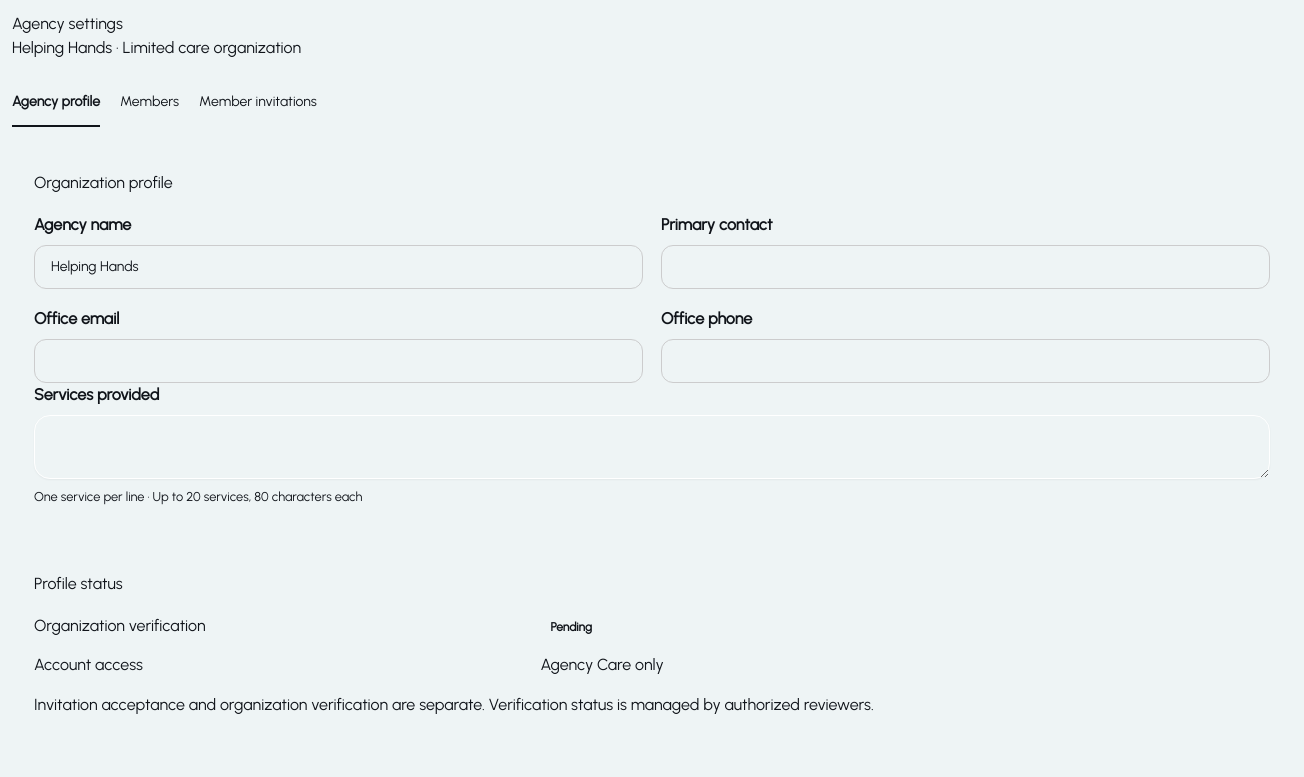
starts at the first page when switching between members and member invitations
Click the button "Members": click(150, 104) [120,82,179,127]
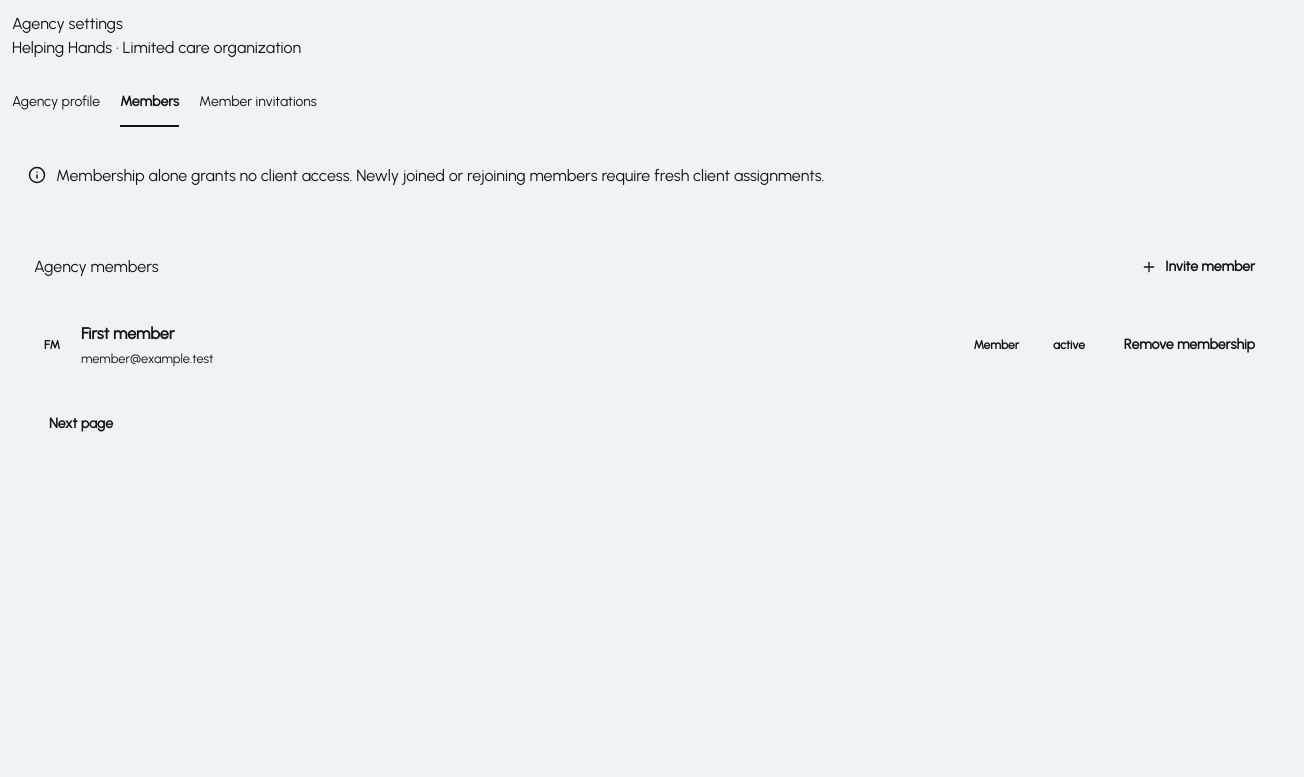
Click the button "Next page": click(81, 423) [34,402,128,444]
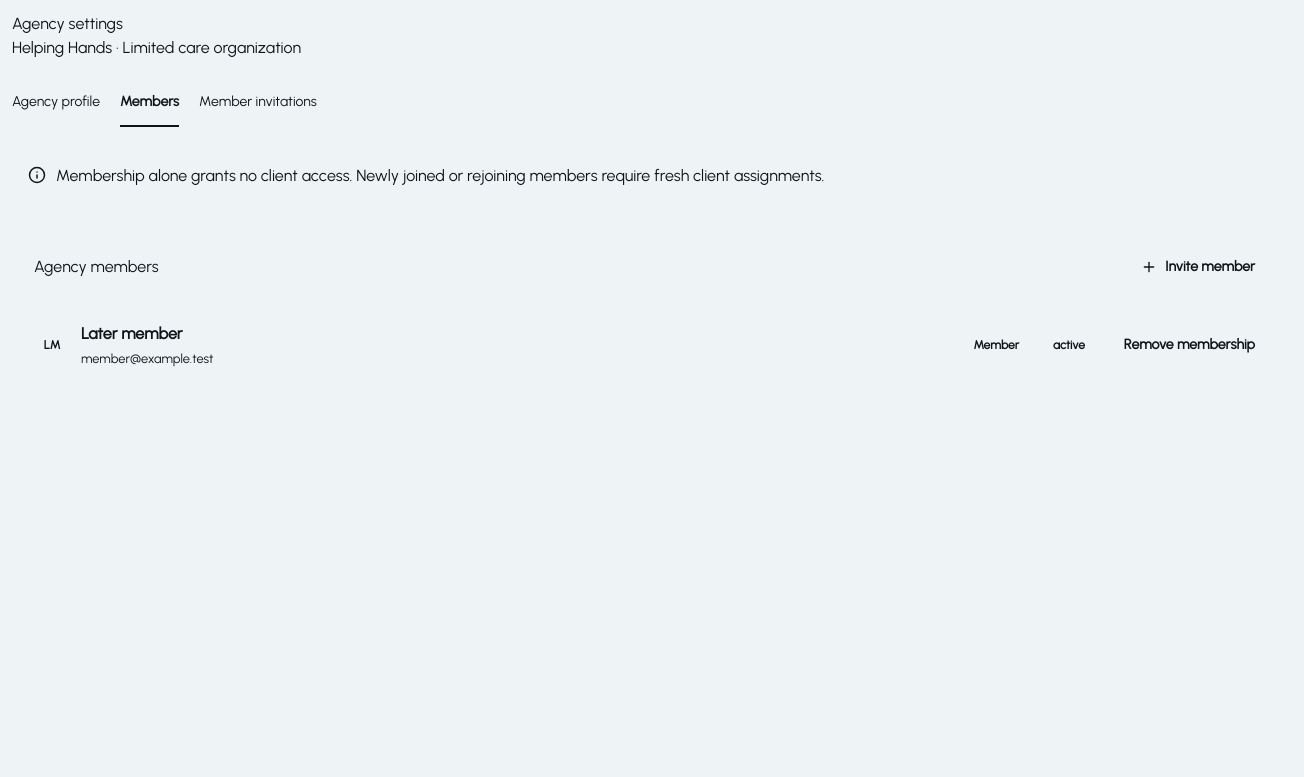
Now the text "Later member" is shown, box [81,324,182,343]
Click the button "Member invitations": click(258, 104) [199,82,317,127]
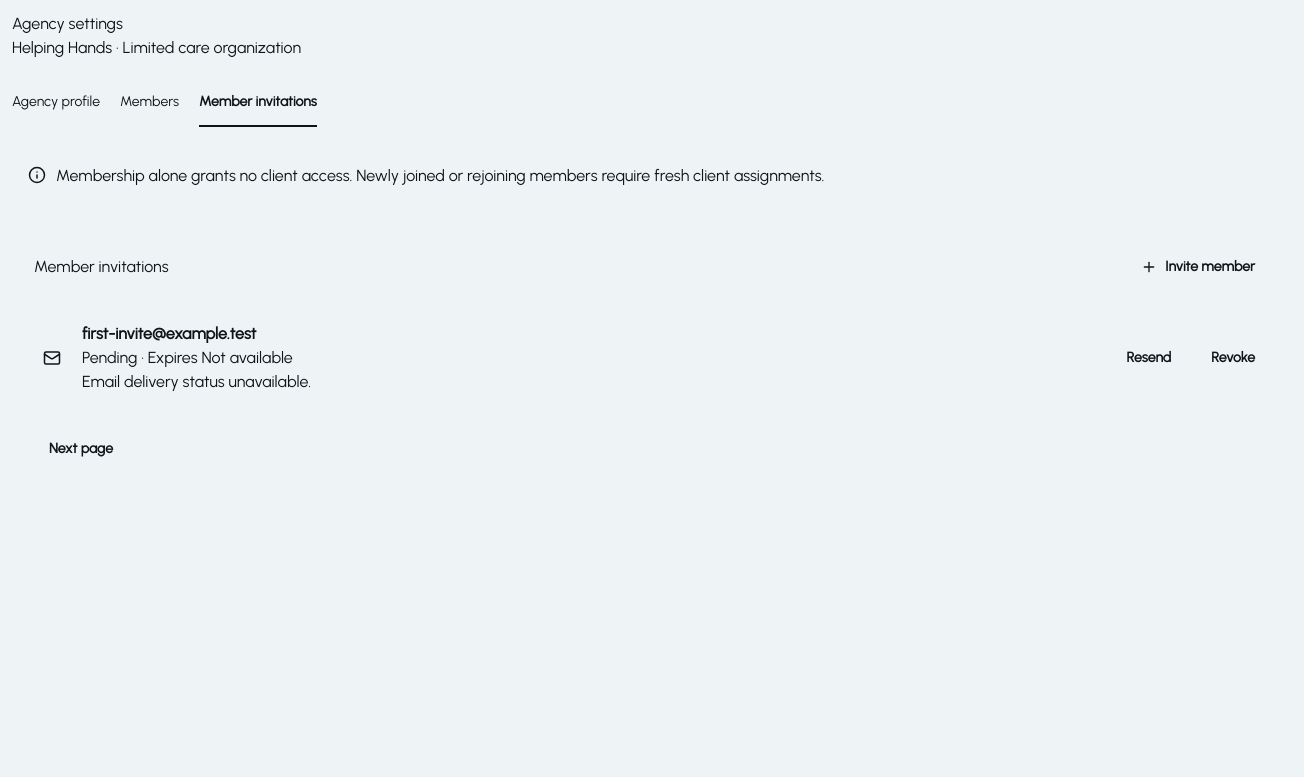
Now the text "first-invite@example.test" is shown, box [82,324,256,343]
Click the button "Next page": click(81, 449) [34,428,128,470]
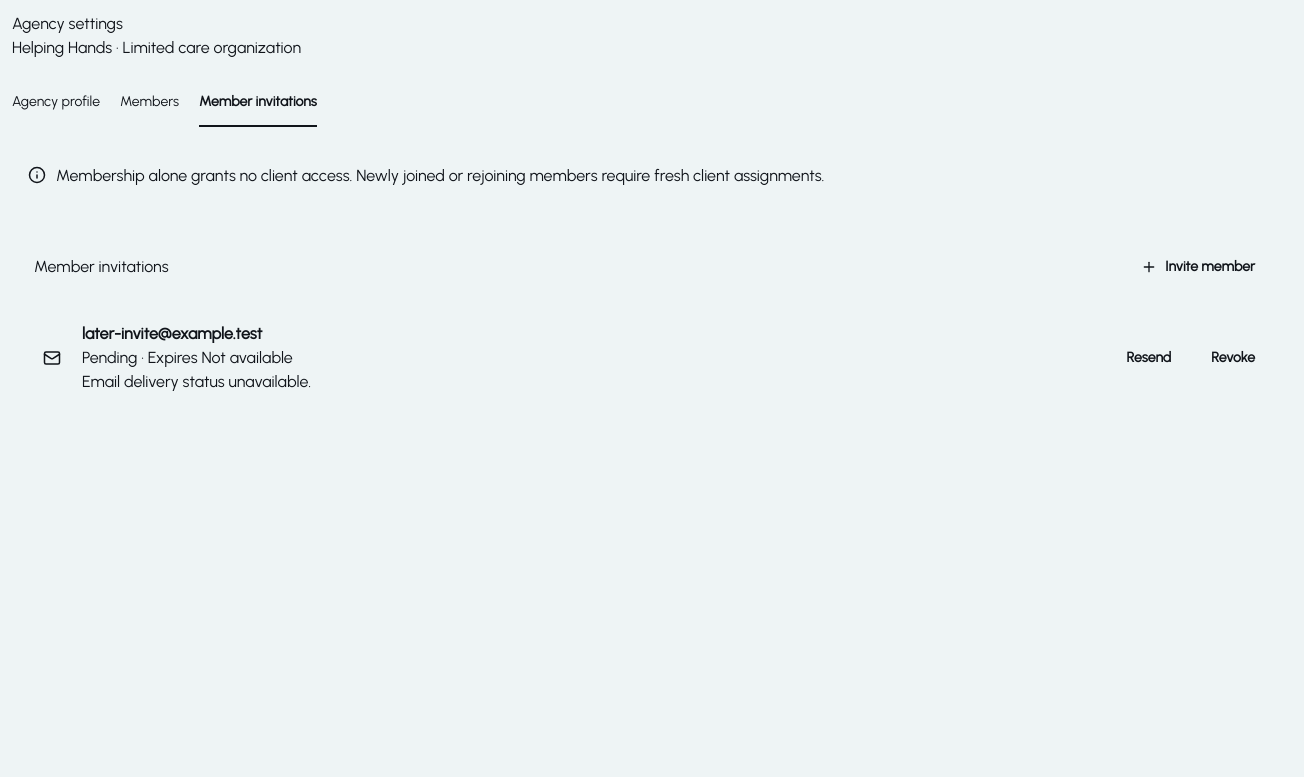
Now the text "later-invite@example.test" is shown, box [82,324,262,343]
Click the button "Members": click(150, 104) [120,82,179,127]
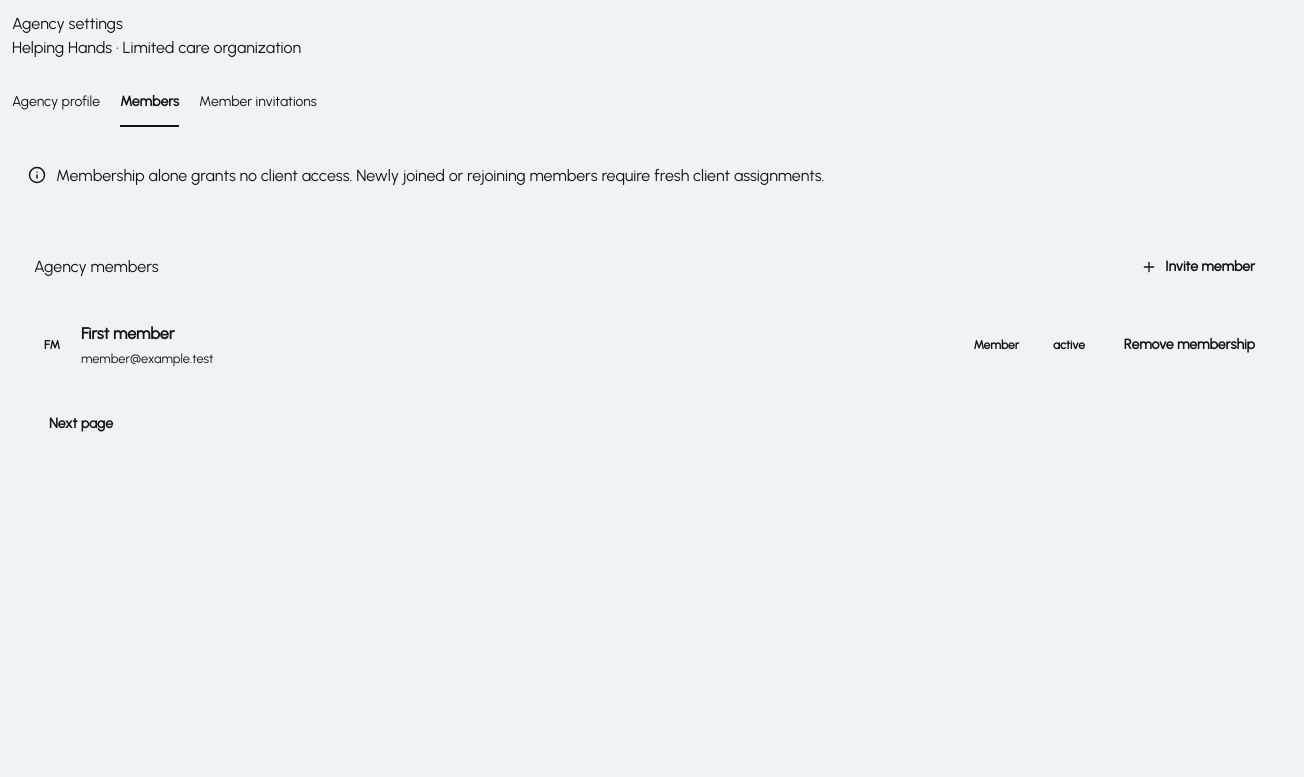
Now the text "First member" is shown, box [81,324,174,343]
